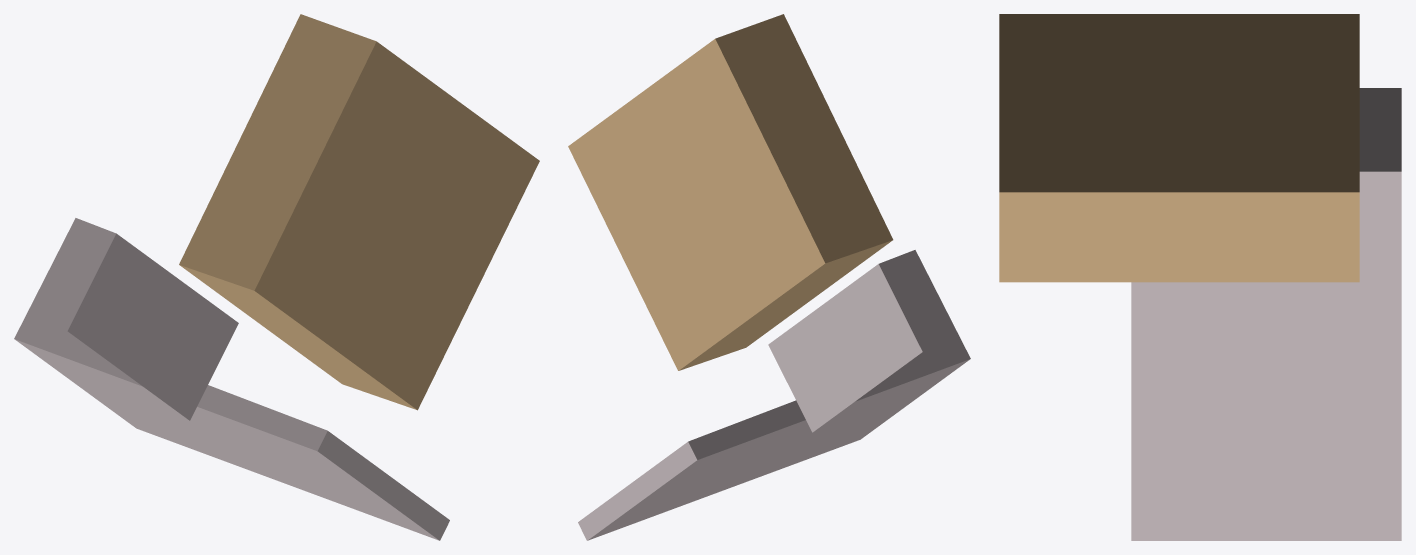
The picture shows the model from 3 angles, left to right: view 1: azimuth 30°, elevation 25°; view 2: azimuth 150°, elevation 25°; view 3: azimuth 270°, elevation 25°; orthographic projection. The views are drawn at different scales.
Parts seen in each view (by area): view 1: 0_3_0_2_2_2_1_1_0; view 2: 0_3_0_2_2_2_1_1_0; view 3: 0_3_0_2_2_2_1_1_0.
Part boxes in pixels (x1,y1,x2,y2): 0_3_0_2_2_2_1_1_0: [14, 14, 539, 540]; 0_3_0_2_2_2_1_1_0: [568, 14, 970, 540]; 0_3_0_2_2_2_1_1_0: [999, 14, 1401, 540].
Bounding box in the file's own units: 29.16 × 37.3 × 26.8.
